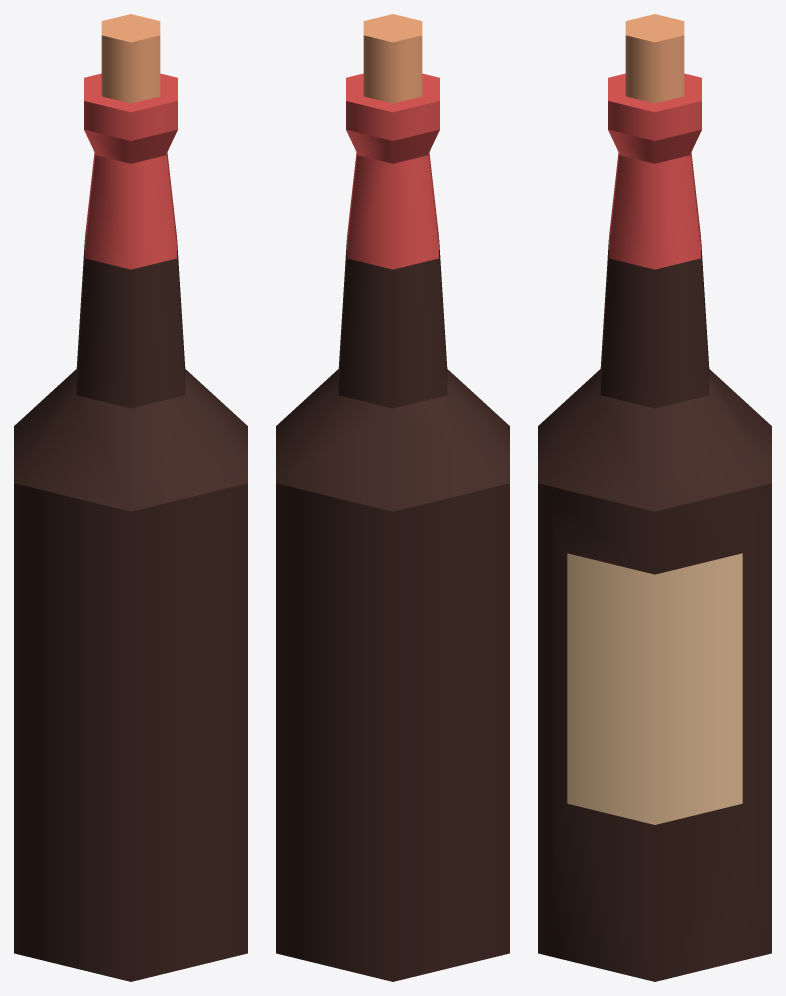
The model's file is wineRed.obj.
The picture shows the model from 3 angles, left to right: view 1: azimuth 30°, elevation 25°; view 2: azimuth 150°, elevation 25°; view 3: azimuth 270°, elevation 25°; orthographic projection.
Visible parts, largest first — view 1: wineRed; view 2: wineRed; view 3: wineRed.
Boxes of the visible parts, x1=… form: wineRed: x1=14, y1=14, x2=247, y2=981; wineRed: x1=276, y1=14, x2=509, y2=981; wineRed: x1=538, y1=14, x2=771, y2=981.
Bounding box in the file's own units: 0.1908 × 0.6989 × 0.1652.
